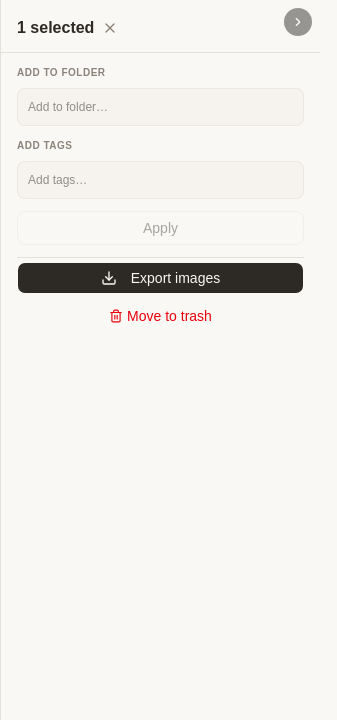
RightPanel selection mode › filters the folder list as the user types in the search input
The image size is (337, 720).
Type "nat" into the field with placeholder "Add to folder…" at (160, 107), box x1=26 y1=97 x2=295 y2=117
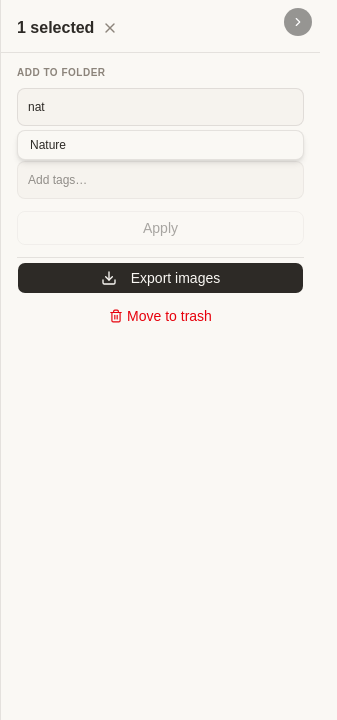
Expected: the list item "Nature" is shown, x1=30 y1=138 x2=66 y2=152
